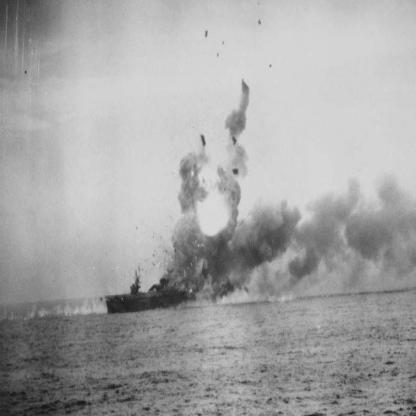smoke: (284, 177, 346, 275), (338, 199, 414, 252), (228, 198, 296, 256), (218, 77, 250, 198), (176, 145, 206, 239), (163, 237, 231, 278)
